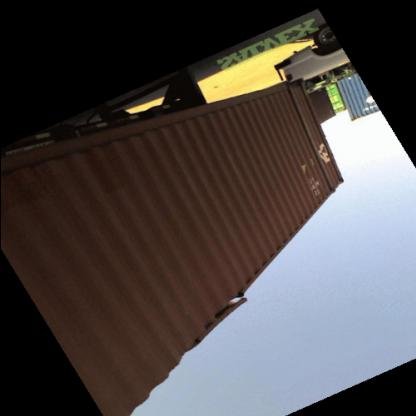Damage: (286, 74, 344, 193), (182, 290, 249, 356), (86, 174, 145, 209)
